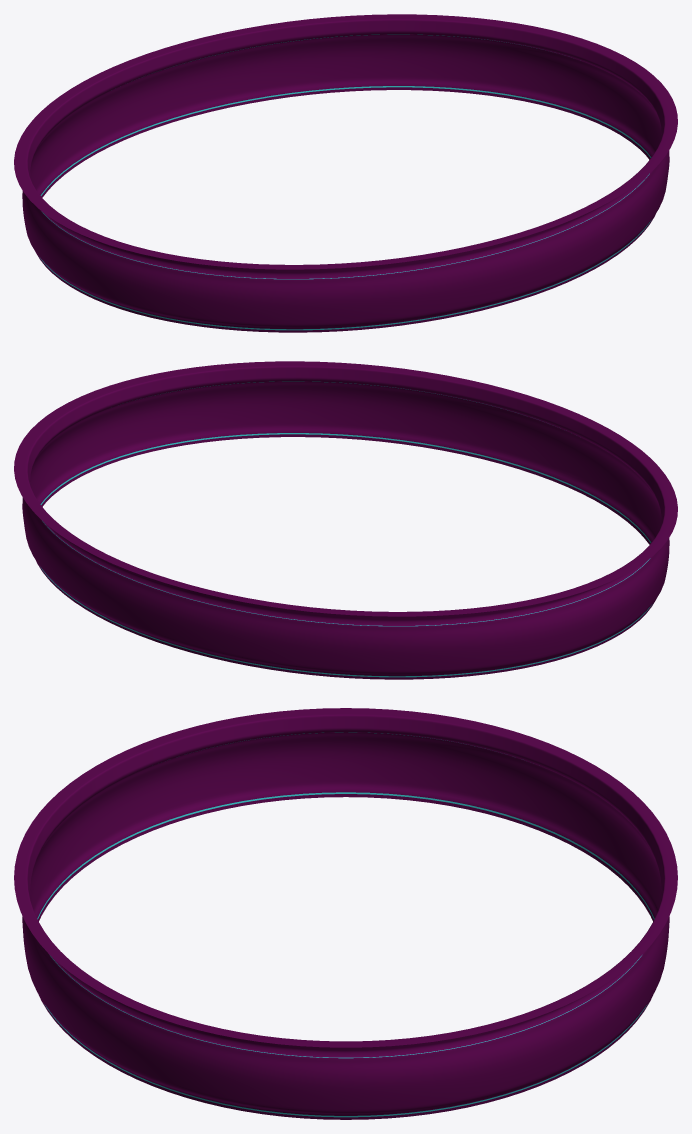
The model's file is Outer Rim Wall LL.FBX.
3 views of the same model, one above another, from view 1: azimuth 30°, elevation 25°; view 2: azimuth 150°, elevation 25°; view 3: azimuth 270°, elevation 25° (orthographic). The views are drawn at different scales.
Visible parts, largest first — view 1: LL Arena; view 2: LL Arena; view 3: LL Arena.
Part boxes in pixels (<box>): LL Arena: <box>14,14,677,332</box>; LL Arena: <box>14,361,677,679</box>; LL Arena: <box>14,708,677,1119</box>.
Bounding box in the file's own units: 144 × 15.89 × 119.
